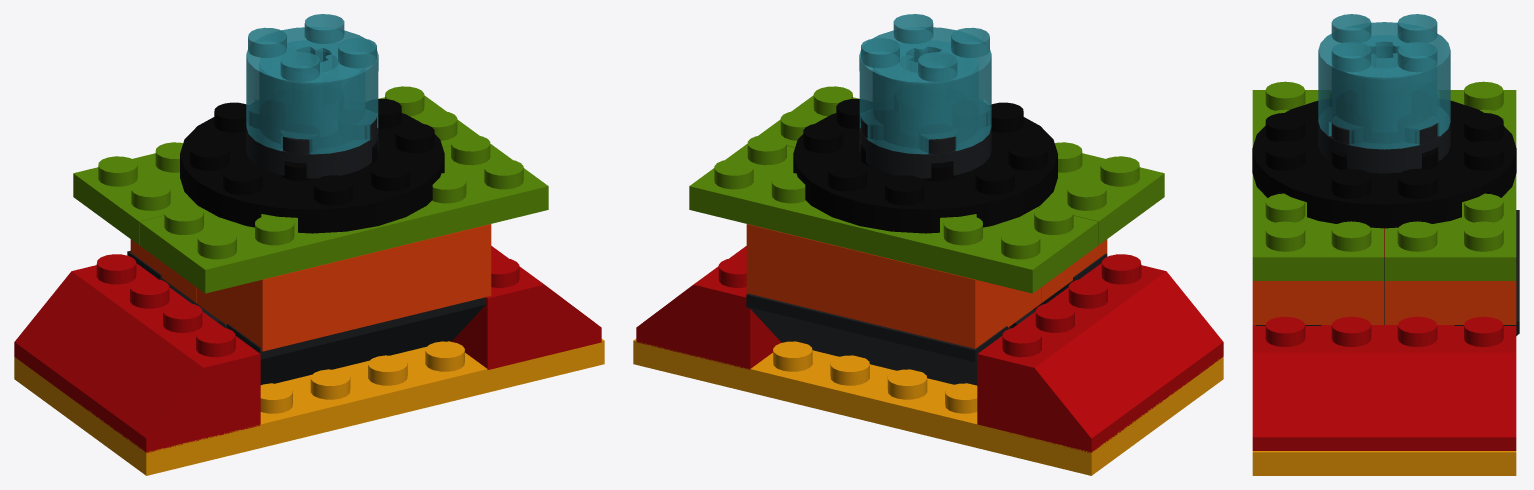
The picture shows the model from 3 angles, left to right: view 1: azimuth 30°, elevation 25°; view 2: azimuth 150°, elevation 25°; view 3: azimuth 270°, elevation 25°; orthographic projection.
Parts seen in each view (by area): view 1: Part_3037.11, Part_3035.9, Part_3795.3, Part_60474.2, Part_3001.7, Part_6143.5, Part_3037.10, Part_3795.4, Part_4854.1, Part_4032.6, Part_3001.8; view 2: Part_3037.11, Part_3795.4, Part_3035.9, Part_60474.2, Part_3001.8, Part_6143.5, Part_4854.1, Part_3795.3, Part_3037.10, Part_4032.6, Part_3001.7; view 3: Part_3037.10, Part_60474.2, Part_6143.5, Part_3795.3, Part_3795.4, Part_3035.9, Part_3001.7, Part_3001.8, Part_4032.6, Part_4854.1.
Part boxes in pixels (x1,y1,x2,y2): Part_3037.11: (14,254,260,452); Part_3035.9: (14,339,604,475); Part_3795.3: (139,135,548,293); Part_60474.2: (180,98,444,233); Part_3001.7: (196,224,491,351); Part_6143.5: (246,14,378,154); Part_3037.10: (449,246,601,369); Part_3795.4: (73,86,479,244); Part_4854.1: (127,250,487,384); Part_4032.6: (246,112,378,178); Part_3001.8: (130,239,196,302); Part_3037.11: (977,254,1223,452); Part_3795.4: (689,135,1098,293); Part_3035.9: (633,339,1223,475); Part_60474.2: (793,98,1057,233); Part_3001.8: (746,224,1041,348); Part_6143.5: (859,14,991,154); Part_4854.1: (746,253,1107,385); Part_3795.3: (758,86,1164,244); Part_3037.10: (636,246,781,369); Part_4032.6: (859,112,991,178); Part_3001.7: (1041,239,1107,302); Part_3037.10: (1252,316,1516,450); Part_60474.2: (1252,100,1516,228); Part_6143.5: (1318,14,1450,149); Part_3795.3: (1252,81,1384,280); Part_3795.4: (1385,81,1516,280); Part_3035.9: (1252,451,1516,475); Part_3001.7: (1252,281,1384,324); Part_3001.8: (1385,281,1516,324); Part_4032.6: (1318,122,1450,173); Part_4854.1: (1256,210,1519,335).
Bounding box in the file's own units: 63.92 × 43.98 × 32.36.
